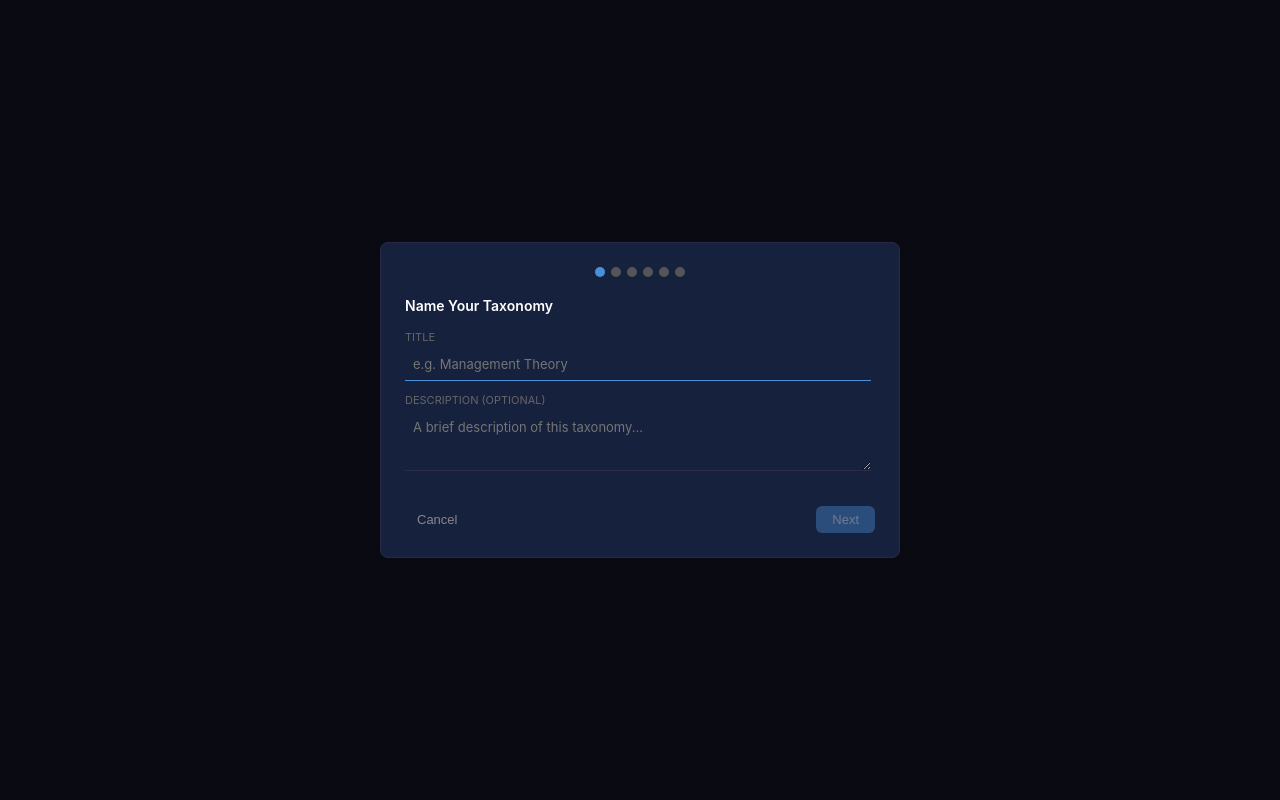
Test: TaxonomyWizard › advances to node types step
Type "Test Map" into the field with placeholder "e.g. Management Theory".
click(638, 364); type("Test Map")  # box [405,348,871,381]
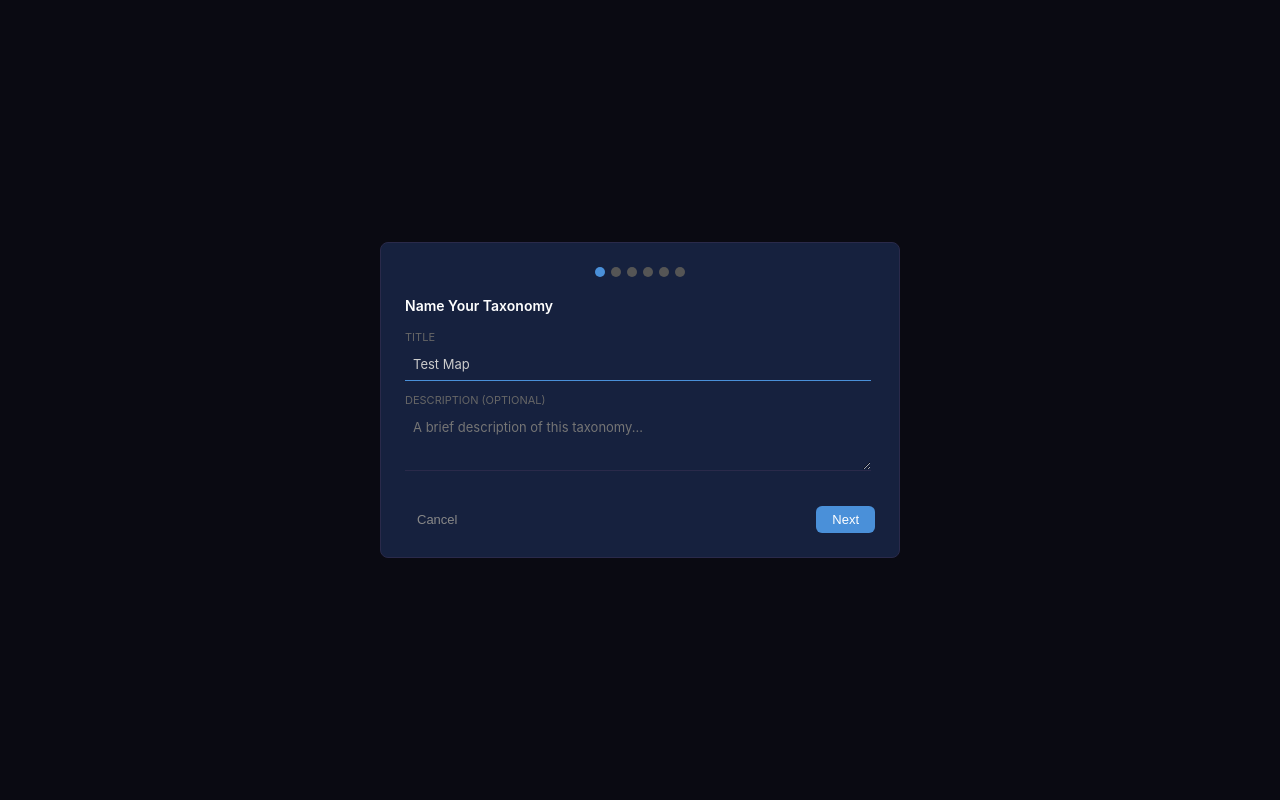
Click the button "Next".
click(846, 520)  # box [816,506,875,533]
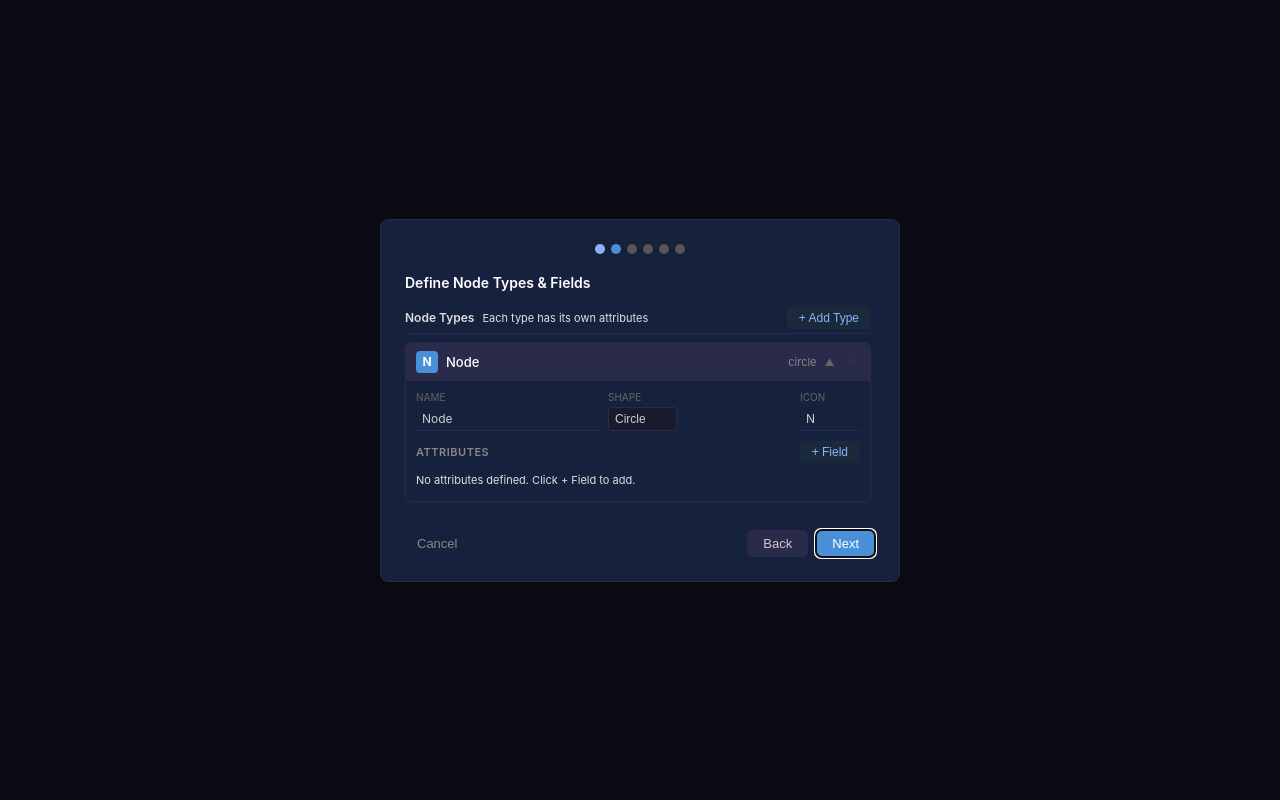
Now the text "Define Node Types & Fields" is shown, box [405,274,591,290]
